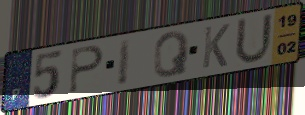5: (31, 47, 66, 102)
I: (116, 36, 134, 89)
K: (200, 22, 232, 71)
P: (67, 44, 106, 95)
Q: (152, 29, 192, 80)
U: (232, 12, 275, 67)
